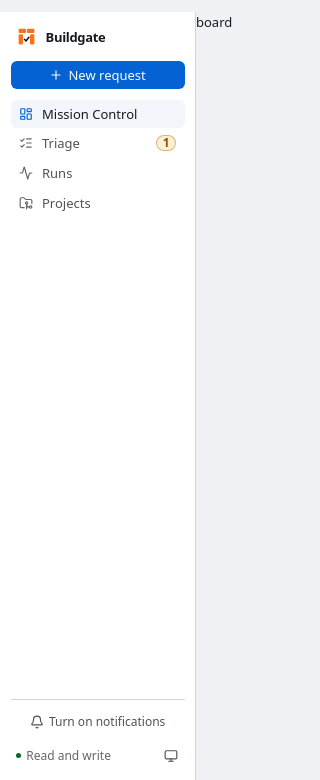
turning notifications on asks for permission, stores the choice and opens the notifier stream; turning them off closes it
Step 1. Click the button "Turn on notifications" → (98, 722), box [10, 710, 184, 734]
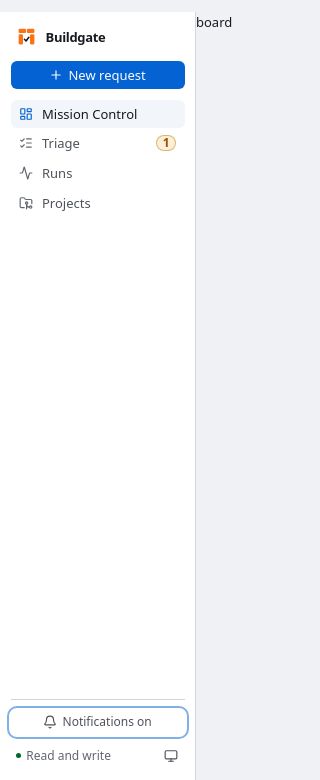
Now the button "Notifications on" is shown
Step 2. Click the button "Notifications on" → (98, 722), box [10, 710, 184, 734]
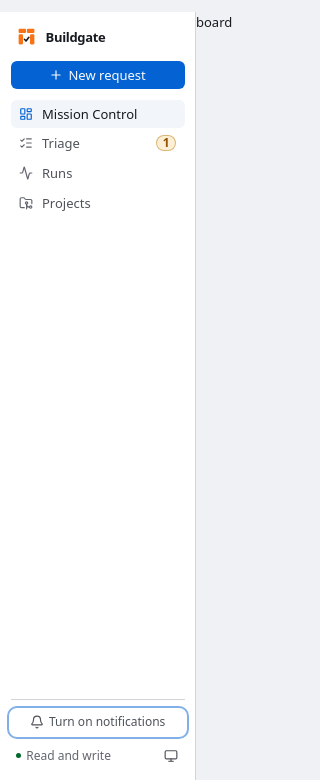
Now the button "Turn on notifications" is shown, box [10, 710, 184, 734]
